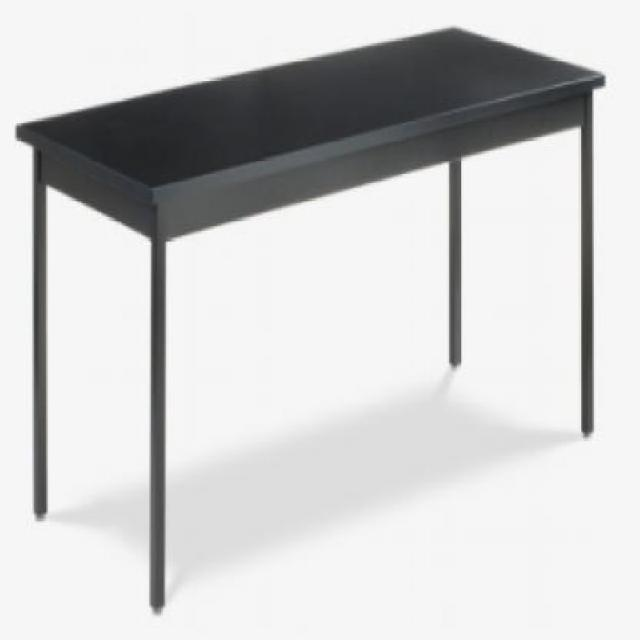table: (12, 21, 603, 608)
